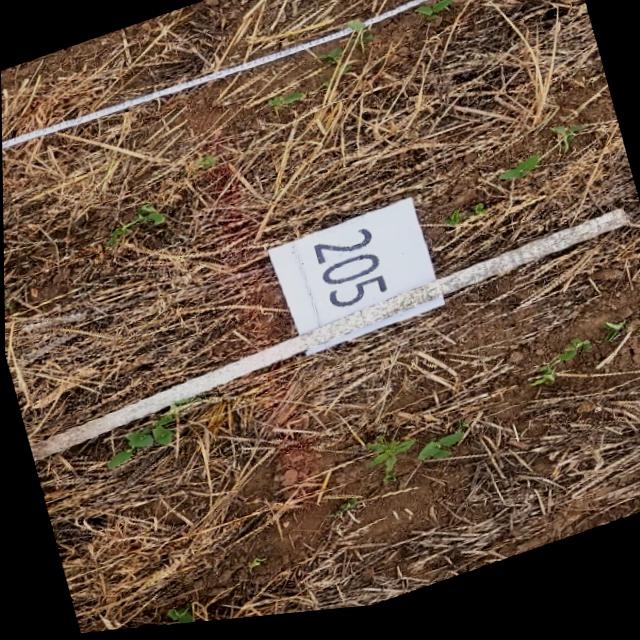soy_plant: (105, 419, 171, 470), (528, 350, 588, 396), (105, 206, 163, 247), (364, 444, 413, 487), (416, 442, 461, 467), (442, 213, 484, 236), (499, 167, 538, 190), (550, 137, 581, 164), (414, 6, 452, 27), (132, 206, 163, 228), (267, 97, 304, 115), (166, 607, 192, 627), (192, 159, 214, 174), (318, 55, 342, 67)
